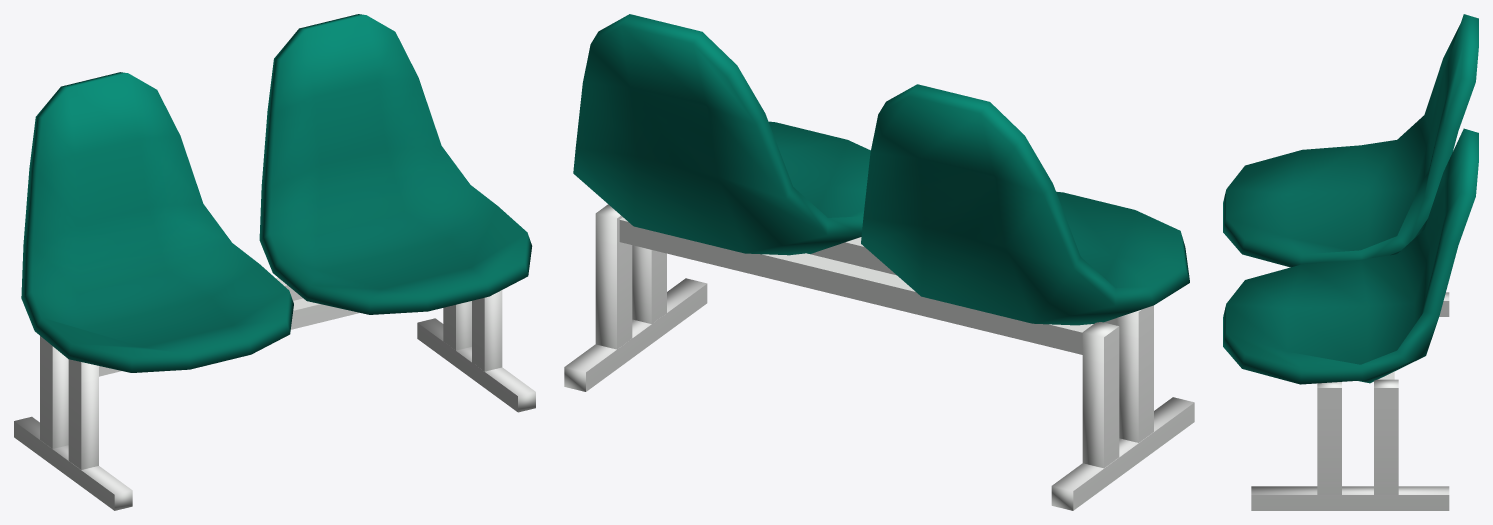
The model's file is Chair_TwoSeaters_Laundromat.fbx.
3 renders of one model, left to right at view 1: azimuth 30°, elevation 25°; view 2: azimuth 150°, elevation 25°; view 3: azimuth 270°, elevation 25°, orthographic. The views are drawn at different scales.
Parts seen in each view (by area): view 1: Chair_TwoSeaters.Laundromat; view 2: Chair_TwoSeaters.Laundromat; view 3: Chair_TwoSeaters.Laundromat.
Part boxes in pixels (box(x1,y1,x2,y2)): Chair_TwoSeaters.Laundromat: box(14, 14, 535, 510); Chair_TwoSeaters.Laundromat: box(564, 14, 1194, 510); Chair_TwoSeaters.Laundromat: box(1223, 14, 1478, 510).
Bounding box in the file's own units: 168 × 113 × 80.77.
Materials: 1 (1 with a texture image).
